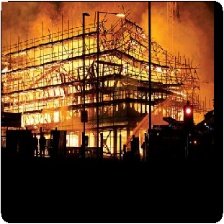fire: (1, 65, 76, 124), (66, 127, 123, 155), (120, 56, 179, 81)
smoke: (4, 4, 214, 49)
